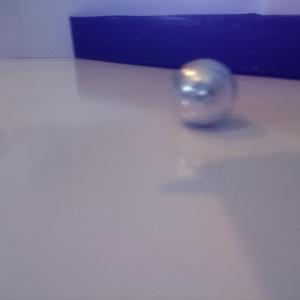zone: (69, 13, 300, 79)
